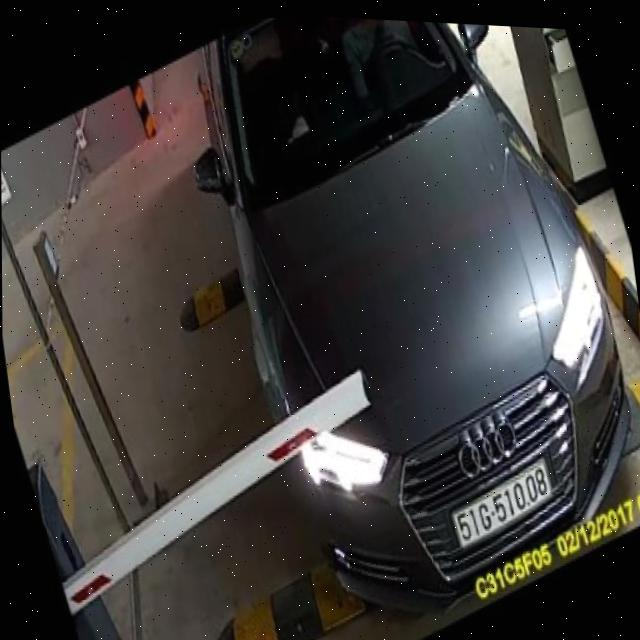car: (170, 9, 640, 640)
plate: (442, 450, 561, 555)
